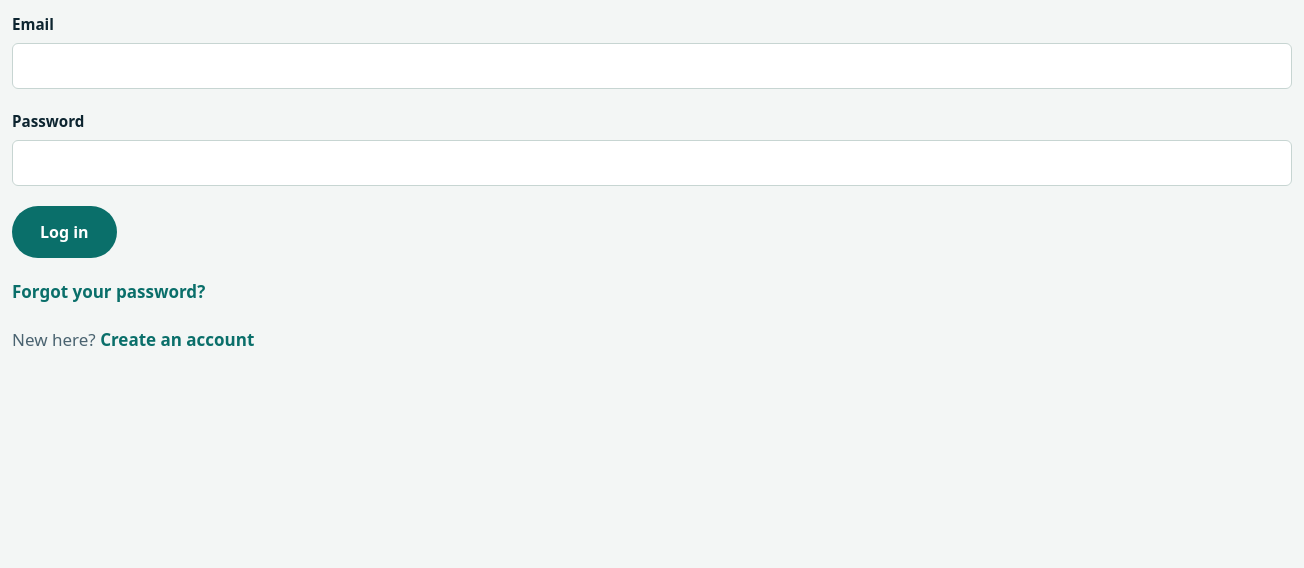
Scenario: LoginForm two-factor step › shows a wrong code as an error and links to password reset
Step 1. Type "boss@example.com" into the field labelled "Email" → (652, 66), box [12,43,1292,89]
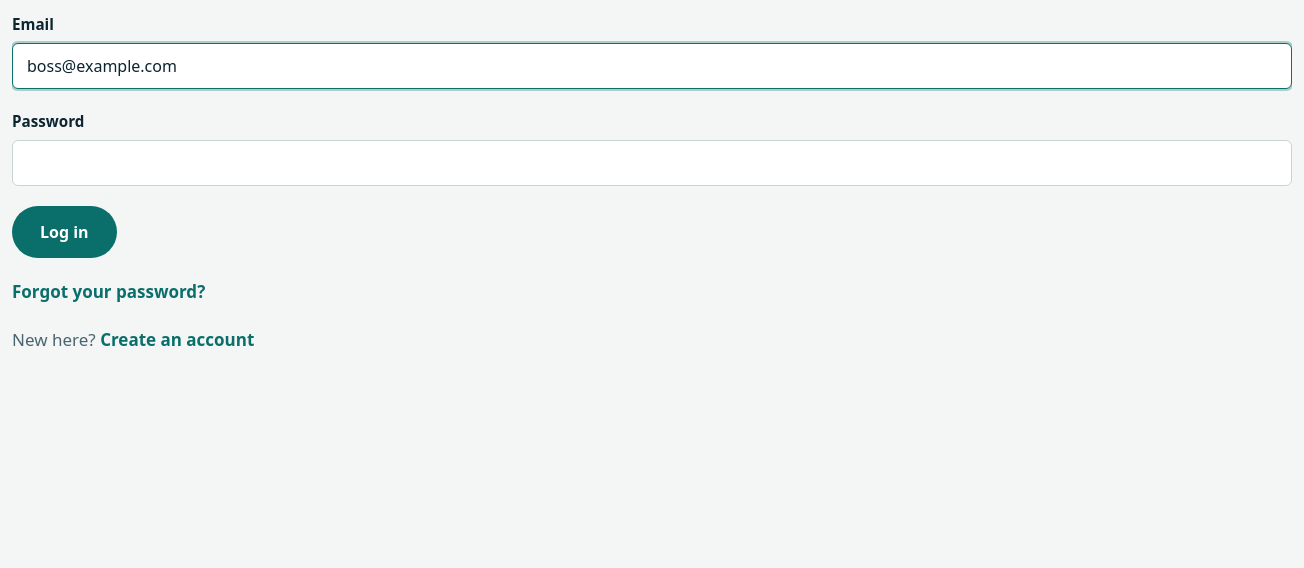
Step 2. Type "a long enough password" into the password field labelled "Password" → (652, 163), box [12,140,1292,186]
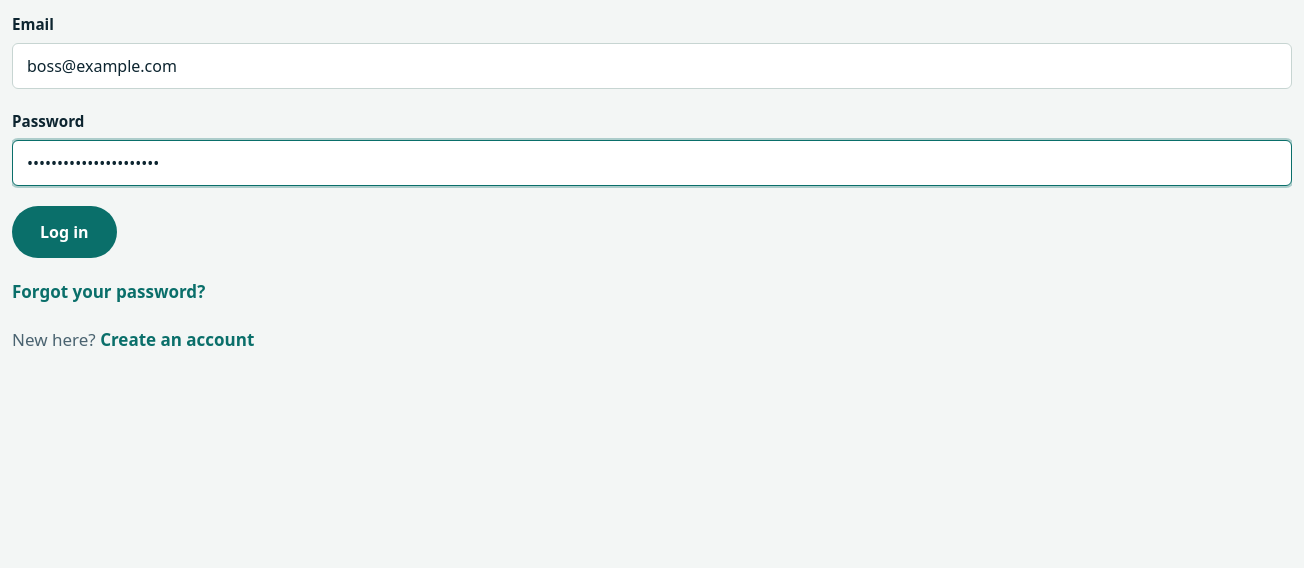
Step 3. Click the button "Log in" → (64, 232), box [12,206,117,258]
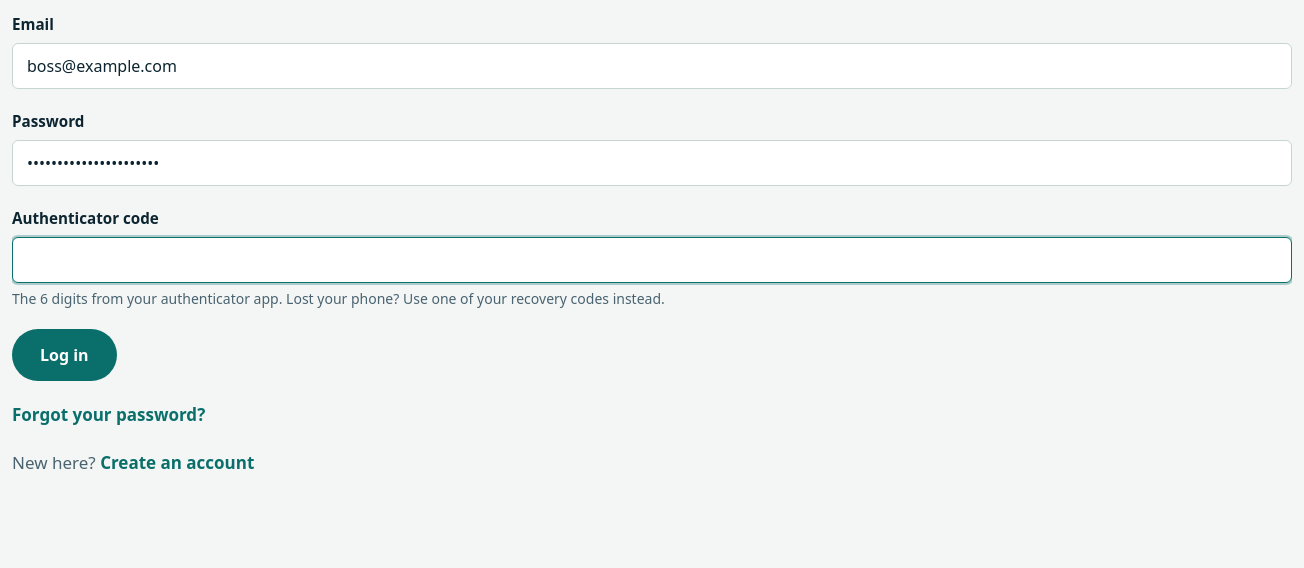
Step 4. Type "000000" into the field labelled "Authenticator code" → (652, 260), box [12,237,1292,283]
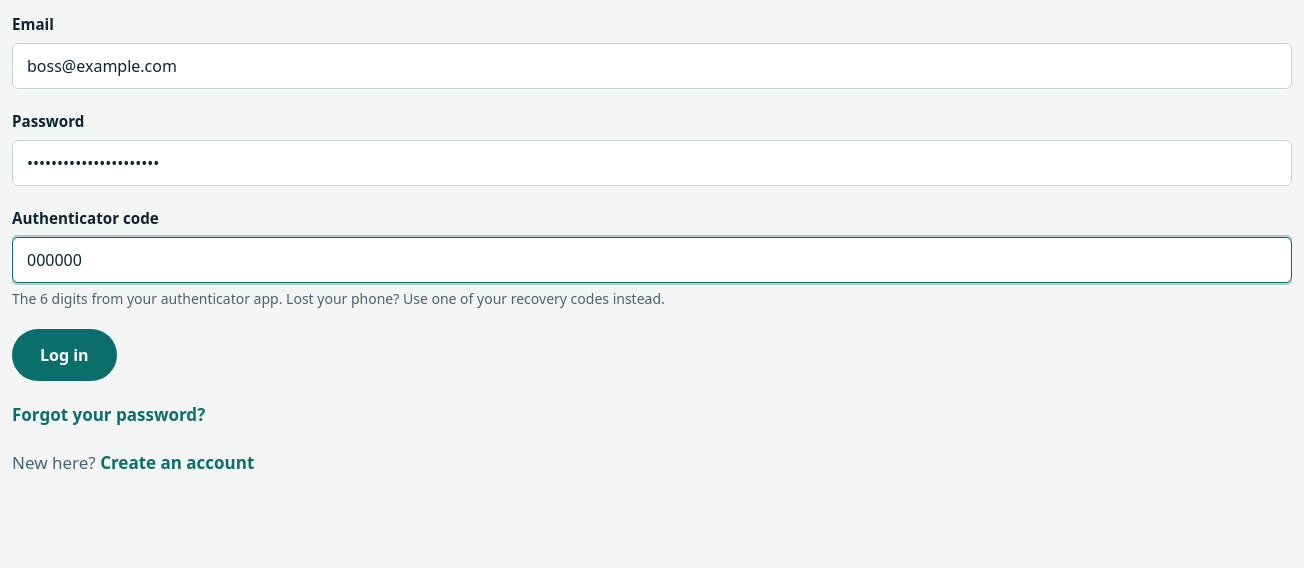
Step 5. Click the button "Log in" → (64, 355), box [12,329,117,381]
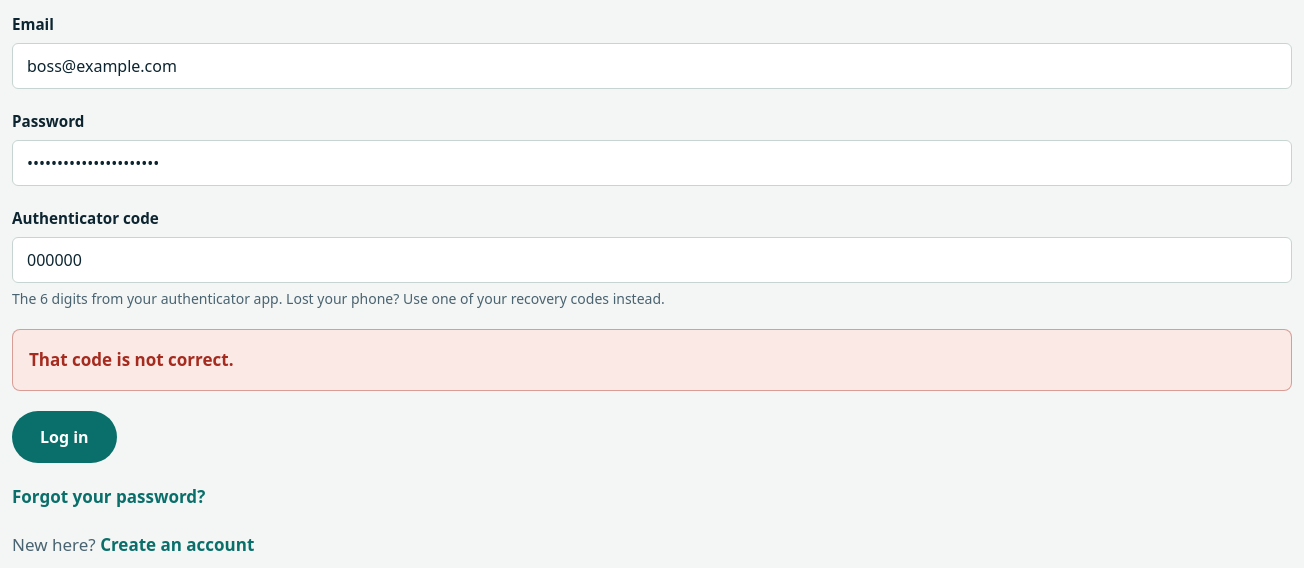
Now the text "That code is not correct." is shown, box [29,348,234,371]
